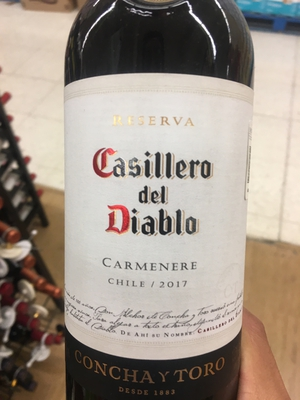casillero del diablo carmenere: (63, 5, 255, 400)
